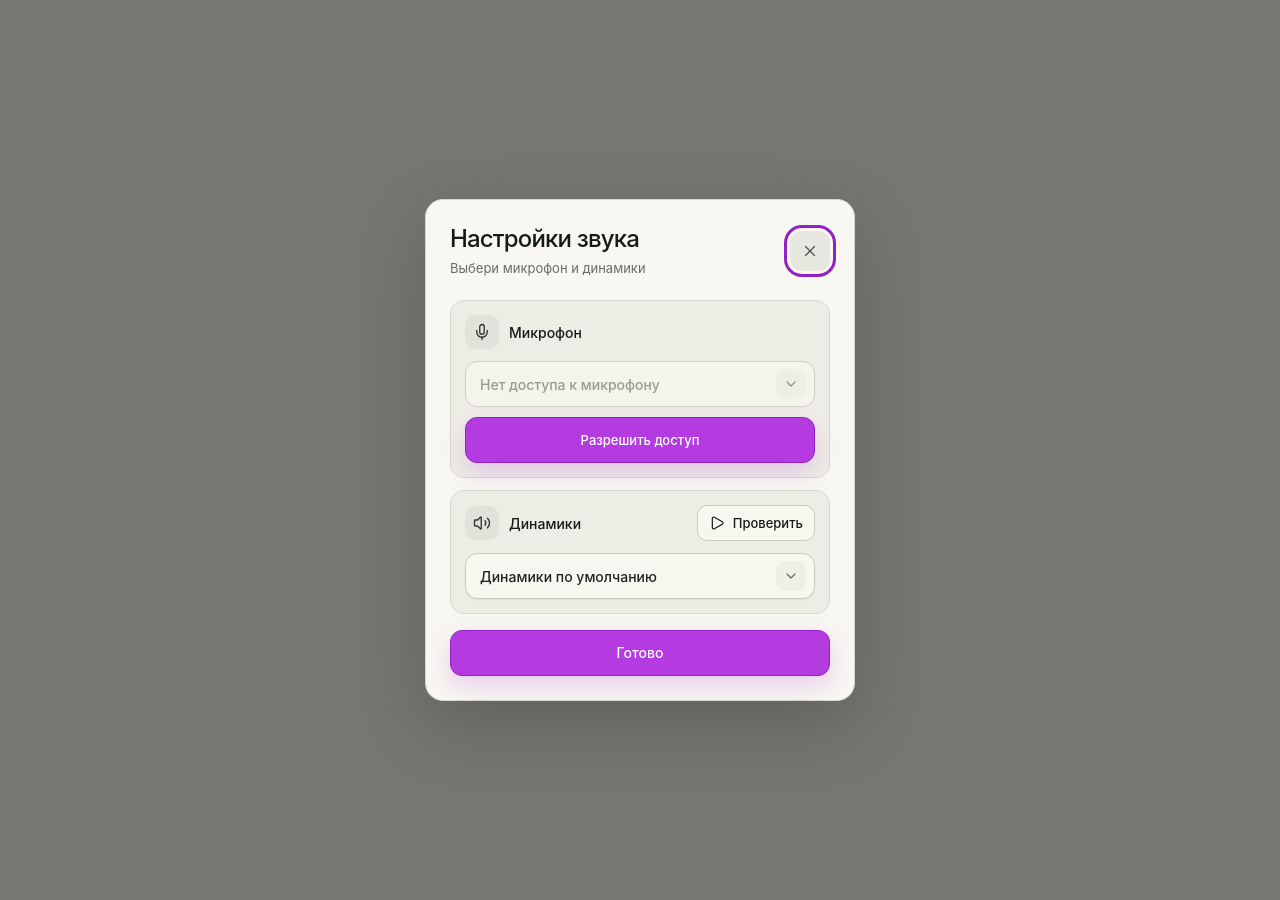
audio settings › keeps a permission retry action after NotAllowedError
Click the button "Разрешить доступ": coordinates (640, 440) top-left (465, 417), bottom-right (815, 463)
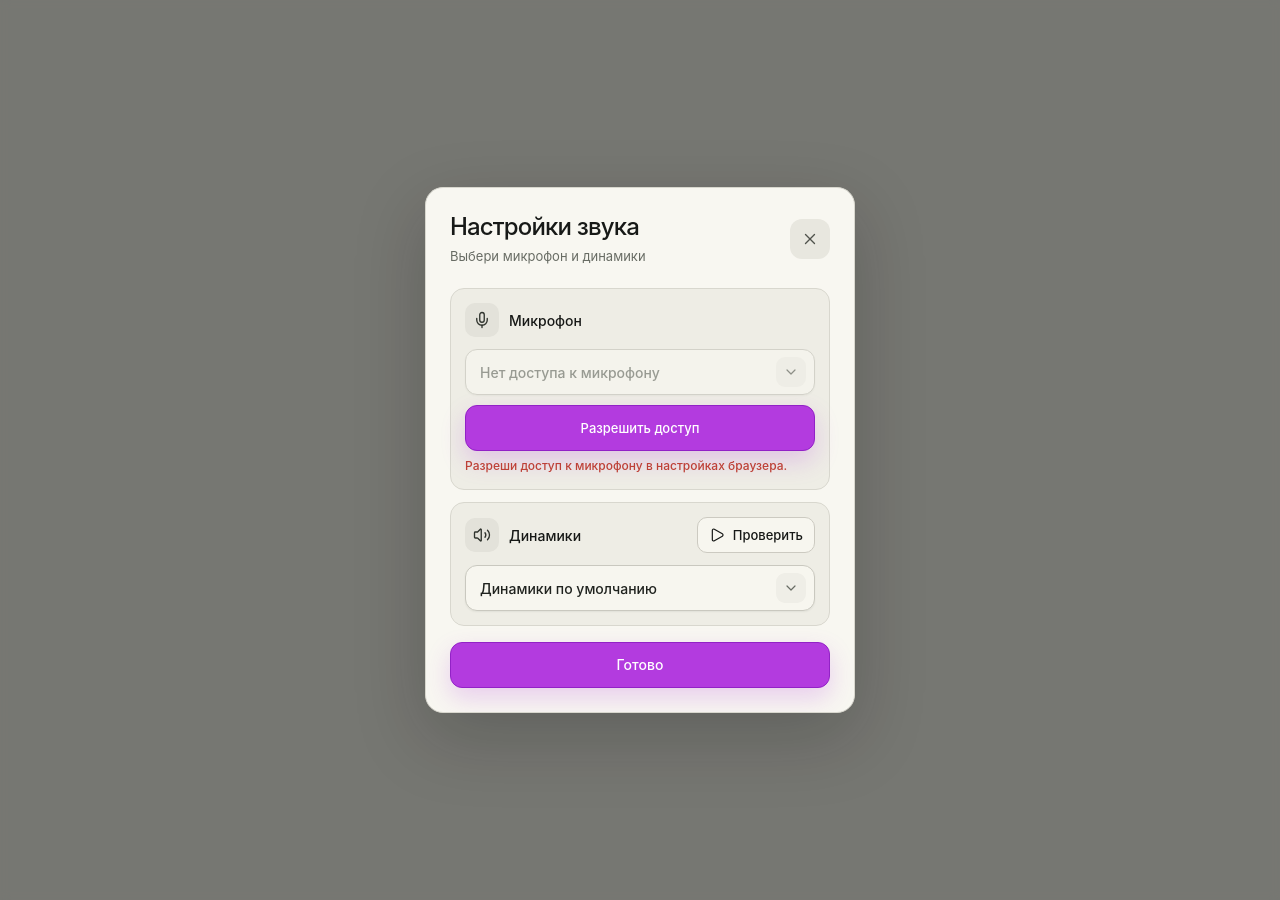
Check: the button "Разрешить доступ" is enabled, box top-left (465, 405), bottom-right (815, 451)
Check: the message reads "Разреши доступ к микрофону в настройках браузера.", box top-left (465, 458), bottom-right (787, 473)
